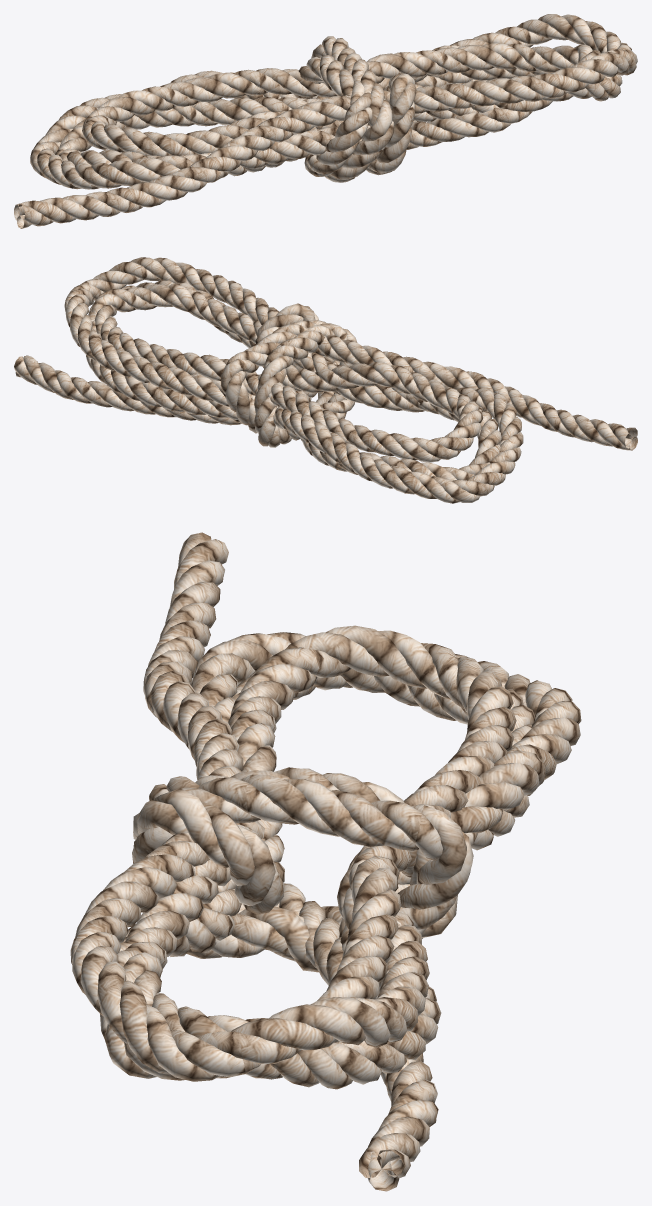
The model's file is string_model.fbx.
The picture shows the model from 3 angles, top to bottom: view 1: azimuth 30°, elevation 25°; view 2: azimuth 150°, elevation 25°; view 3: azimuth 270°, elevation 25°; orthographic projection. The views are drawn at different scales.
Visible parts, largest first — view 1: Object_3; view 2: Object_3; view 3: Object_3.
Boxes of the visible parts, x1,y1,x2,y2 form: Object_3: (14,14,637,228); Object_3: (14,257,637,503); Object_3: (70,532,581,1191).
Size of the model in its own units: 5.78 by 2.25 by 0.9633.
Materials: 1 (1 with a texture image).
